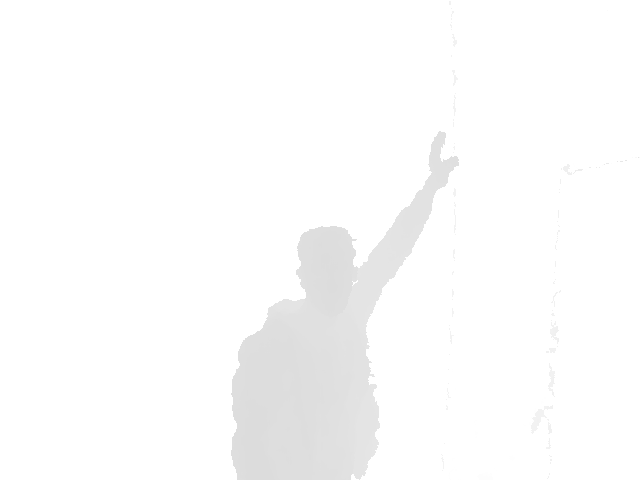hand: (421, 131, 461, 190)
head: (295, 226, 360, 315)
person: (230, 131, 461, 480)
